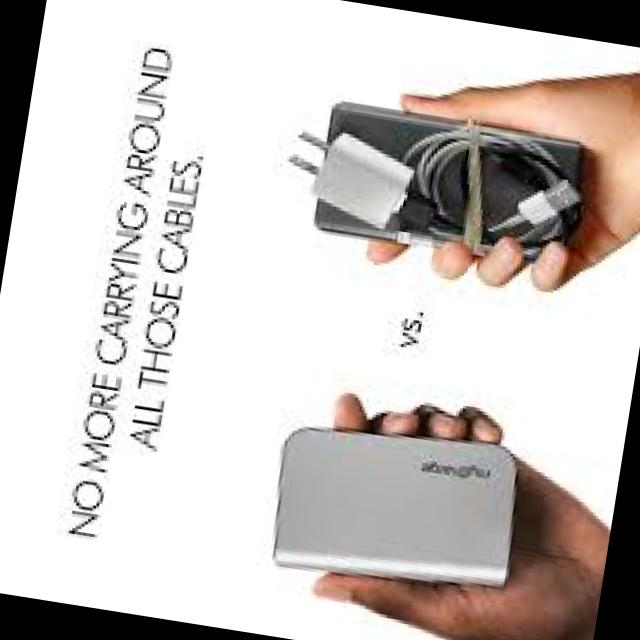portable-charger: (258, 406, 536, 614)
